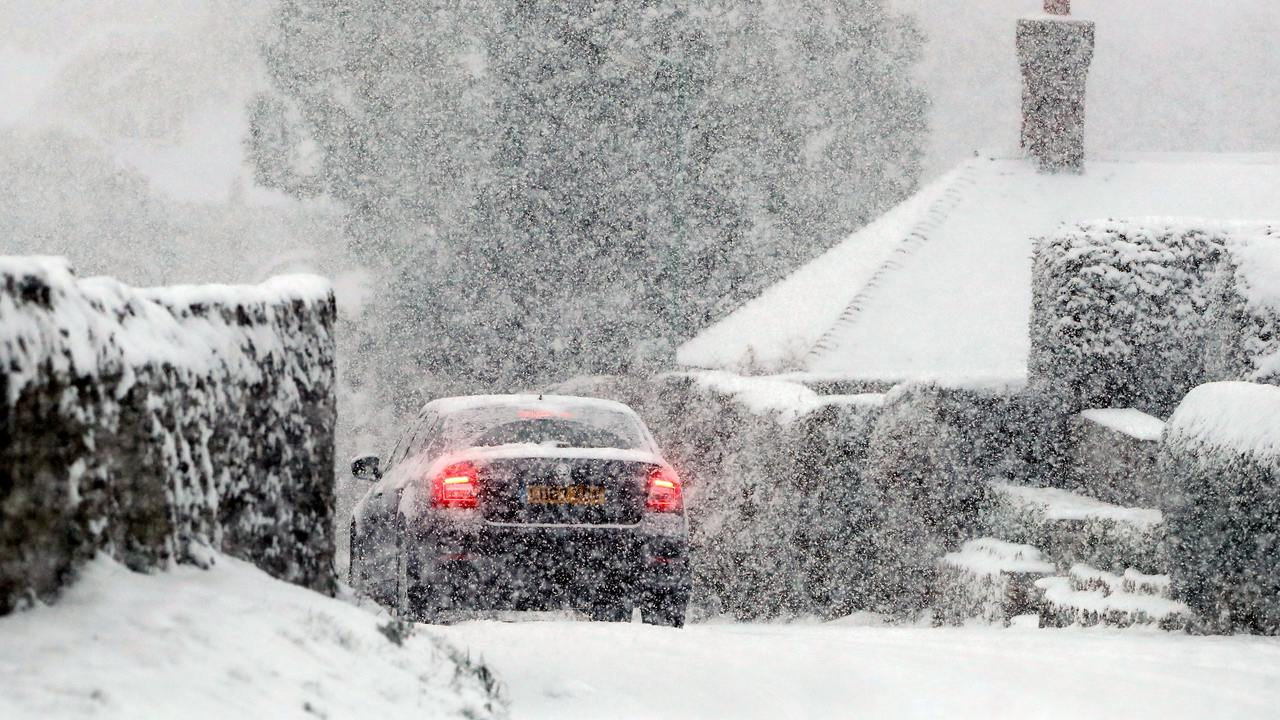car: (350, 386, 695, 631)
